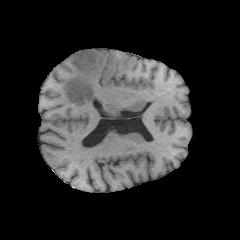glioma: (63, 49, 106, 106)
